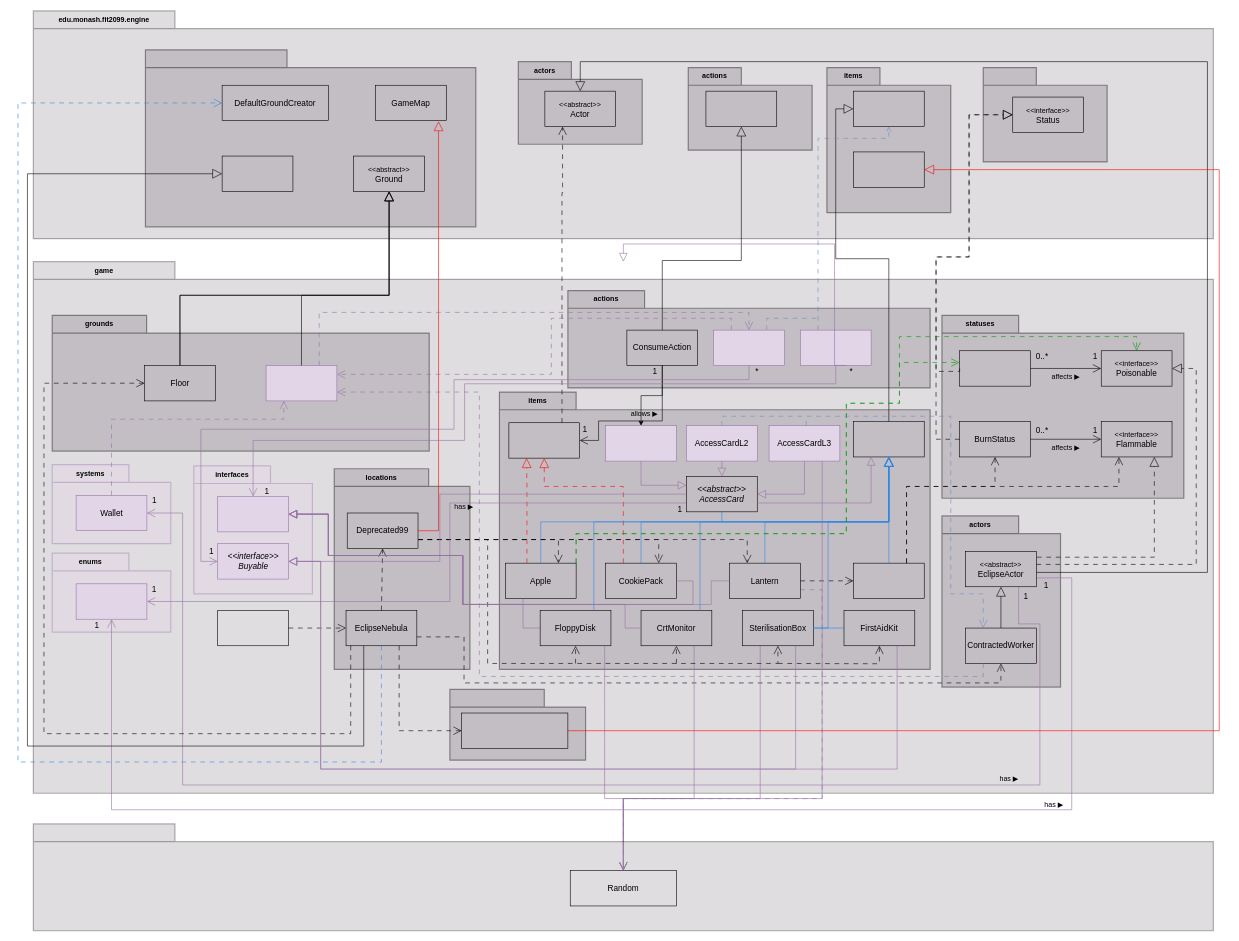
The diagram is 1239 pixels wide and 941 high, and some of its shapes have lost their labels. The shapes that lost their labels are listed below. From the top down, each one's box as (x1, y1, x2, y2) in pixels, then its label:
(705, 91, 777, 127): <<abstract>> Action
(853, 91, 924, 127): <<abstract>> Item
(982, 67, 1107, 162): capabilities
(145, 49, 476, 227): positions
(222, 155, 293, 191): <<abstract>> World
(853, 151, 924, 187): <<abstract>> Inventory
(713, 330, 784, 366): BuyAction
(800, 330, 871, 366): SellAction
(959, 350, 1030, 386): PoisonStatus
(266, 365, 337, 401): SuperComputer
(508, 422, 580, 458): <<interface>> Consumable
(605, 425, 676, 461): AccessCardL1
(853, 421, 924, 457): <<abstract>> EclipseItem
(217, 496, 289, 532): <<interface>> Sellable
(76, 583, 147, 619): <<enum>> ClearanceLeve l
(853, 563, 924, 599): Fire
(217, 610, 289, 646): Application
(461, 712, 568, 748): WeightLimitedInventory
(449, 689, 586, 761): inventories
(32, 823, 1214, 931): java.util
